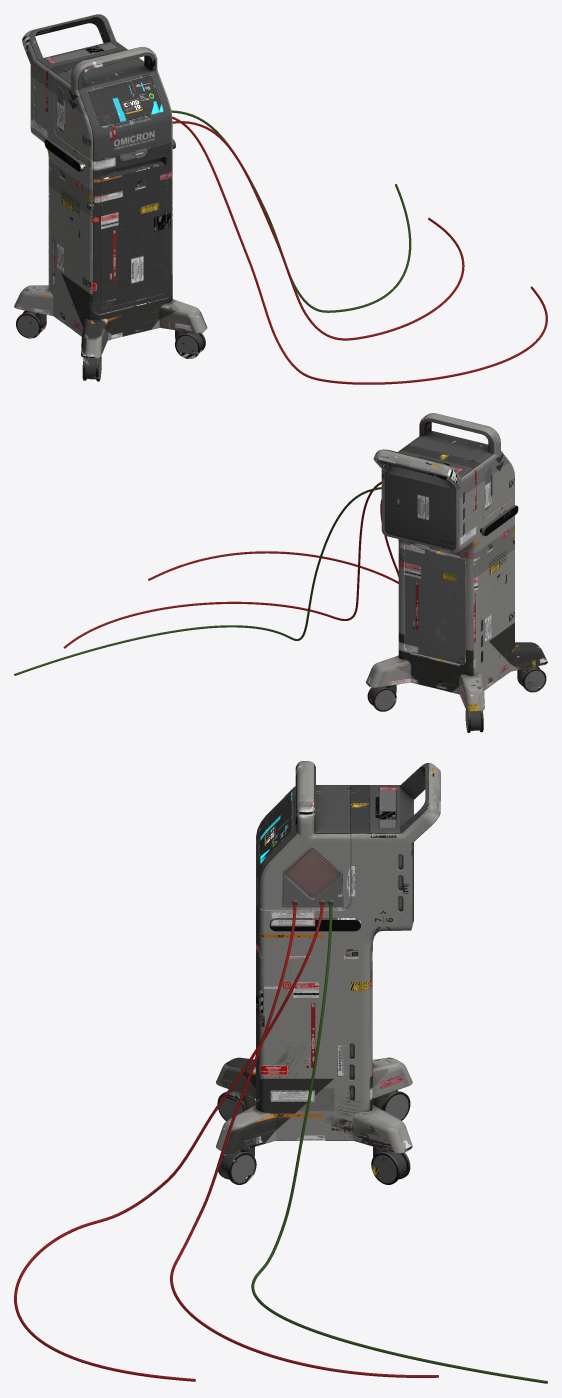
File: covid-19_critical_care_prototype_omicron.glb
The picture shows the model from 3 angles, top to bottom: view 1: azimuth 30°, elevation 25°; view 2: azimuth 150°, elevation 25°; view 3: azimuth 270°, elevation 25°; orthographic projection. The views are drawn at different scales.
Visible parts, largest first — view 1: machine.011_low, machine.016_low, machine.004_low, machine.001_low, machine.003_low, visor_low, glass.002_low, machine.012_low, glass.001_low, glass.003_low, machine.015_low, machine.014_low (+3 smaller); view 2: machine.011_low, machine.017_low, machine.012_low, machine.003_low, machine.004_low, glass.003_low, glass.001_low, glass.002_low, machine.015_low, machine.014_low, machine.001_low, machine.008_low (+1 smaller); view 3: machine.011_low, machine.003_low, machine.004_low, glass.003_low, glass.002_low, glass.001_low, machine.012_low, machine.015_low, machine.001_low, machine.010_low, glass_low, visor.001_low (+4 smaller).
Part boxes in pixels (<box>): machine.011_low: <box>14,14,207,358</box>; machine.016_low: <box>100,161,166,308</box>; machine.004_low: <box>57,52,171,160</box>; machine.001_low: <box>50,50,171,314</box>; machine.003_low: <box>54,46,172,160</box>; visor_low: <box>88,76,163,126</box>; glass.002_low: <box>172,116,547,384</box>; machine.012_low: <box>29,14,127,69</box>; glass.001_low: <box>172,121,464,340</box>; glass.003_low: <box>171,110,411,312</box>; machine.015_low: <box>17,315,197,379</box>; machine.014_low: <box>16,310,205,381</box>; machine.011_low: <box>366,446,547,711</box>; machine.017_low: <box>405,544,465,664</box>; machine.012_low: <box>377,449,472,549</box>; machine.003_low: <box>406,413,514,518</box>; machine.004_low: <box>407,418,493,463</box>; glass.003_low: <box>14,487,381,675</box>; glass.001_low: <box>63,481,381,648</box>; glass.002_low: <box>148,499,398,583</box>; machine.015_low: <box>375,670,544,730</box>; machine.014_low: <box>367,666,546,732</box>; machine.001_low: <box>400,446,479,469</box>; machine.008_low: <box>370,666,537,730</box>; machine.011_low: <box>216,763,440,1153</box>; machine.003_low: <box>259,761,350,909</box>; machine.004_low: <box>256,764,350,907</box>; glass.003_low: <box>251,902,547,1383</box>; glass.002_low: <box>14,902,323,1381</box>; glass.001_low: <box>170,902,438,1377</box>; machine.012_low: <box>369,763,428,923</box>; machine.015_low: <box>219,1094,408,1182</box>; machine.001_low: <box>256,785,369,1100</box>; machine.010_low: <box>282,847,342,907</box>; glass_low: <box>285,849,339,898</box>; visor.001_low: <box>286,850,338,896</box>.
Size of what is drawn, in the model's own units: 1.7 by 1.08 by 1.41.
Materials: 3 (3 with a texture image).
